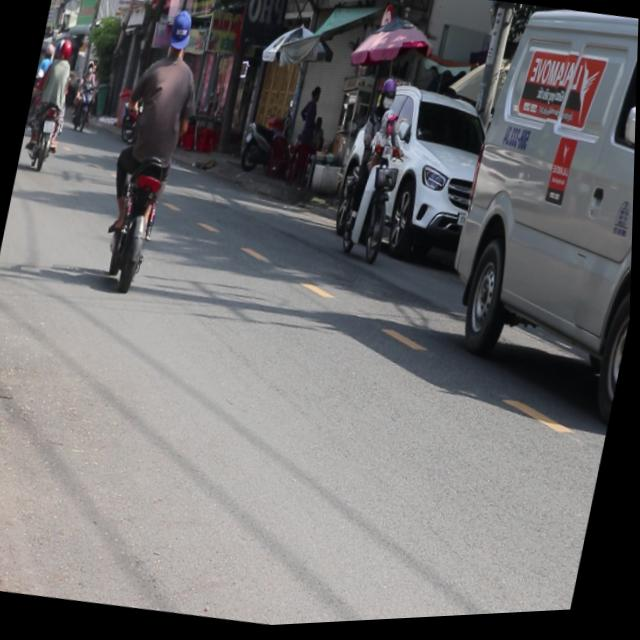helmet: (379, 81, 401, 113), (379, 112, 401, 141)
licenseplate: (91, 2, 211, 298), (333, 76, 418, 271)
motorcyclist: (164, 9, 197, 61)
